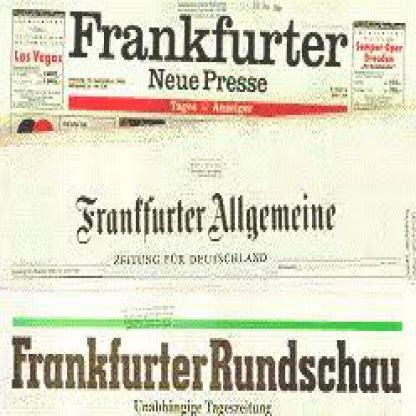paper: (0, 124, 415, 276), (0, 0, 415, 139), (2, 274, 414, 414)
